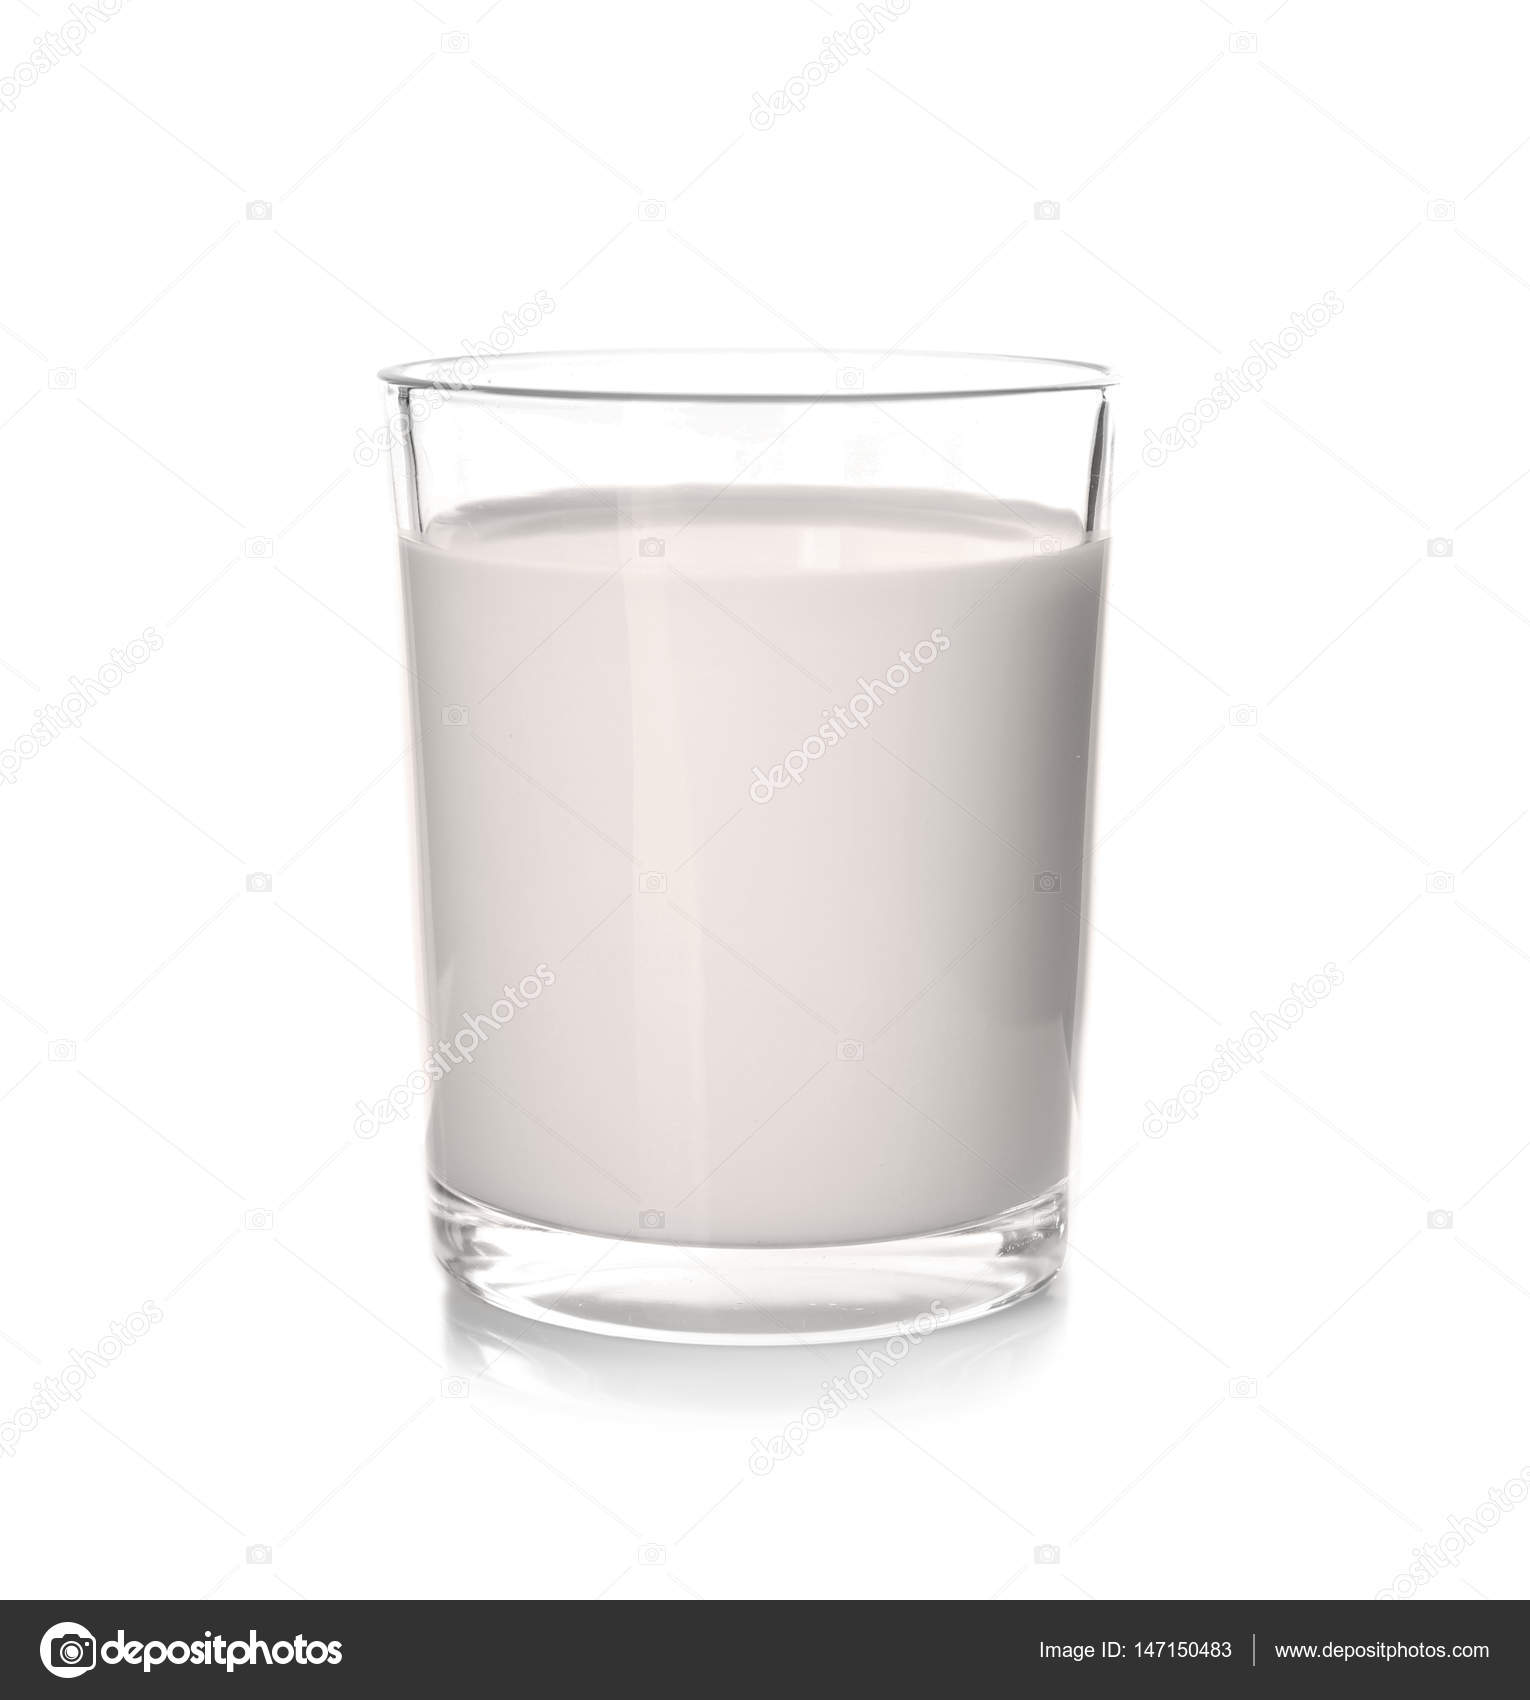glass of milk: (387, 369, 1072, 1323)
